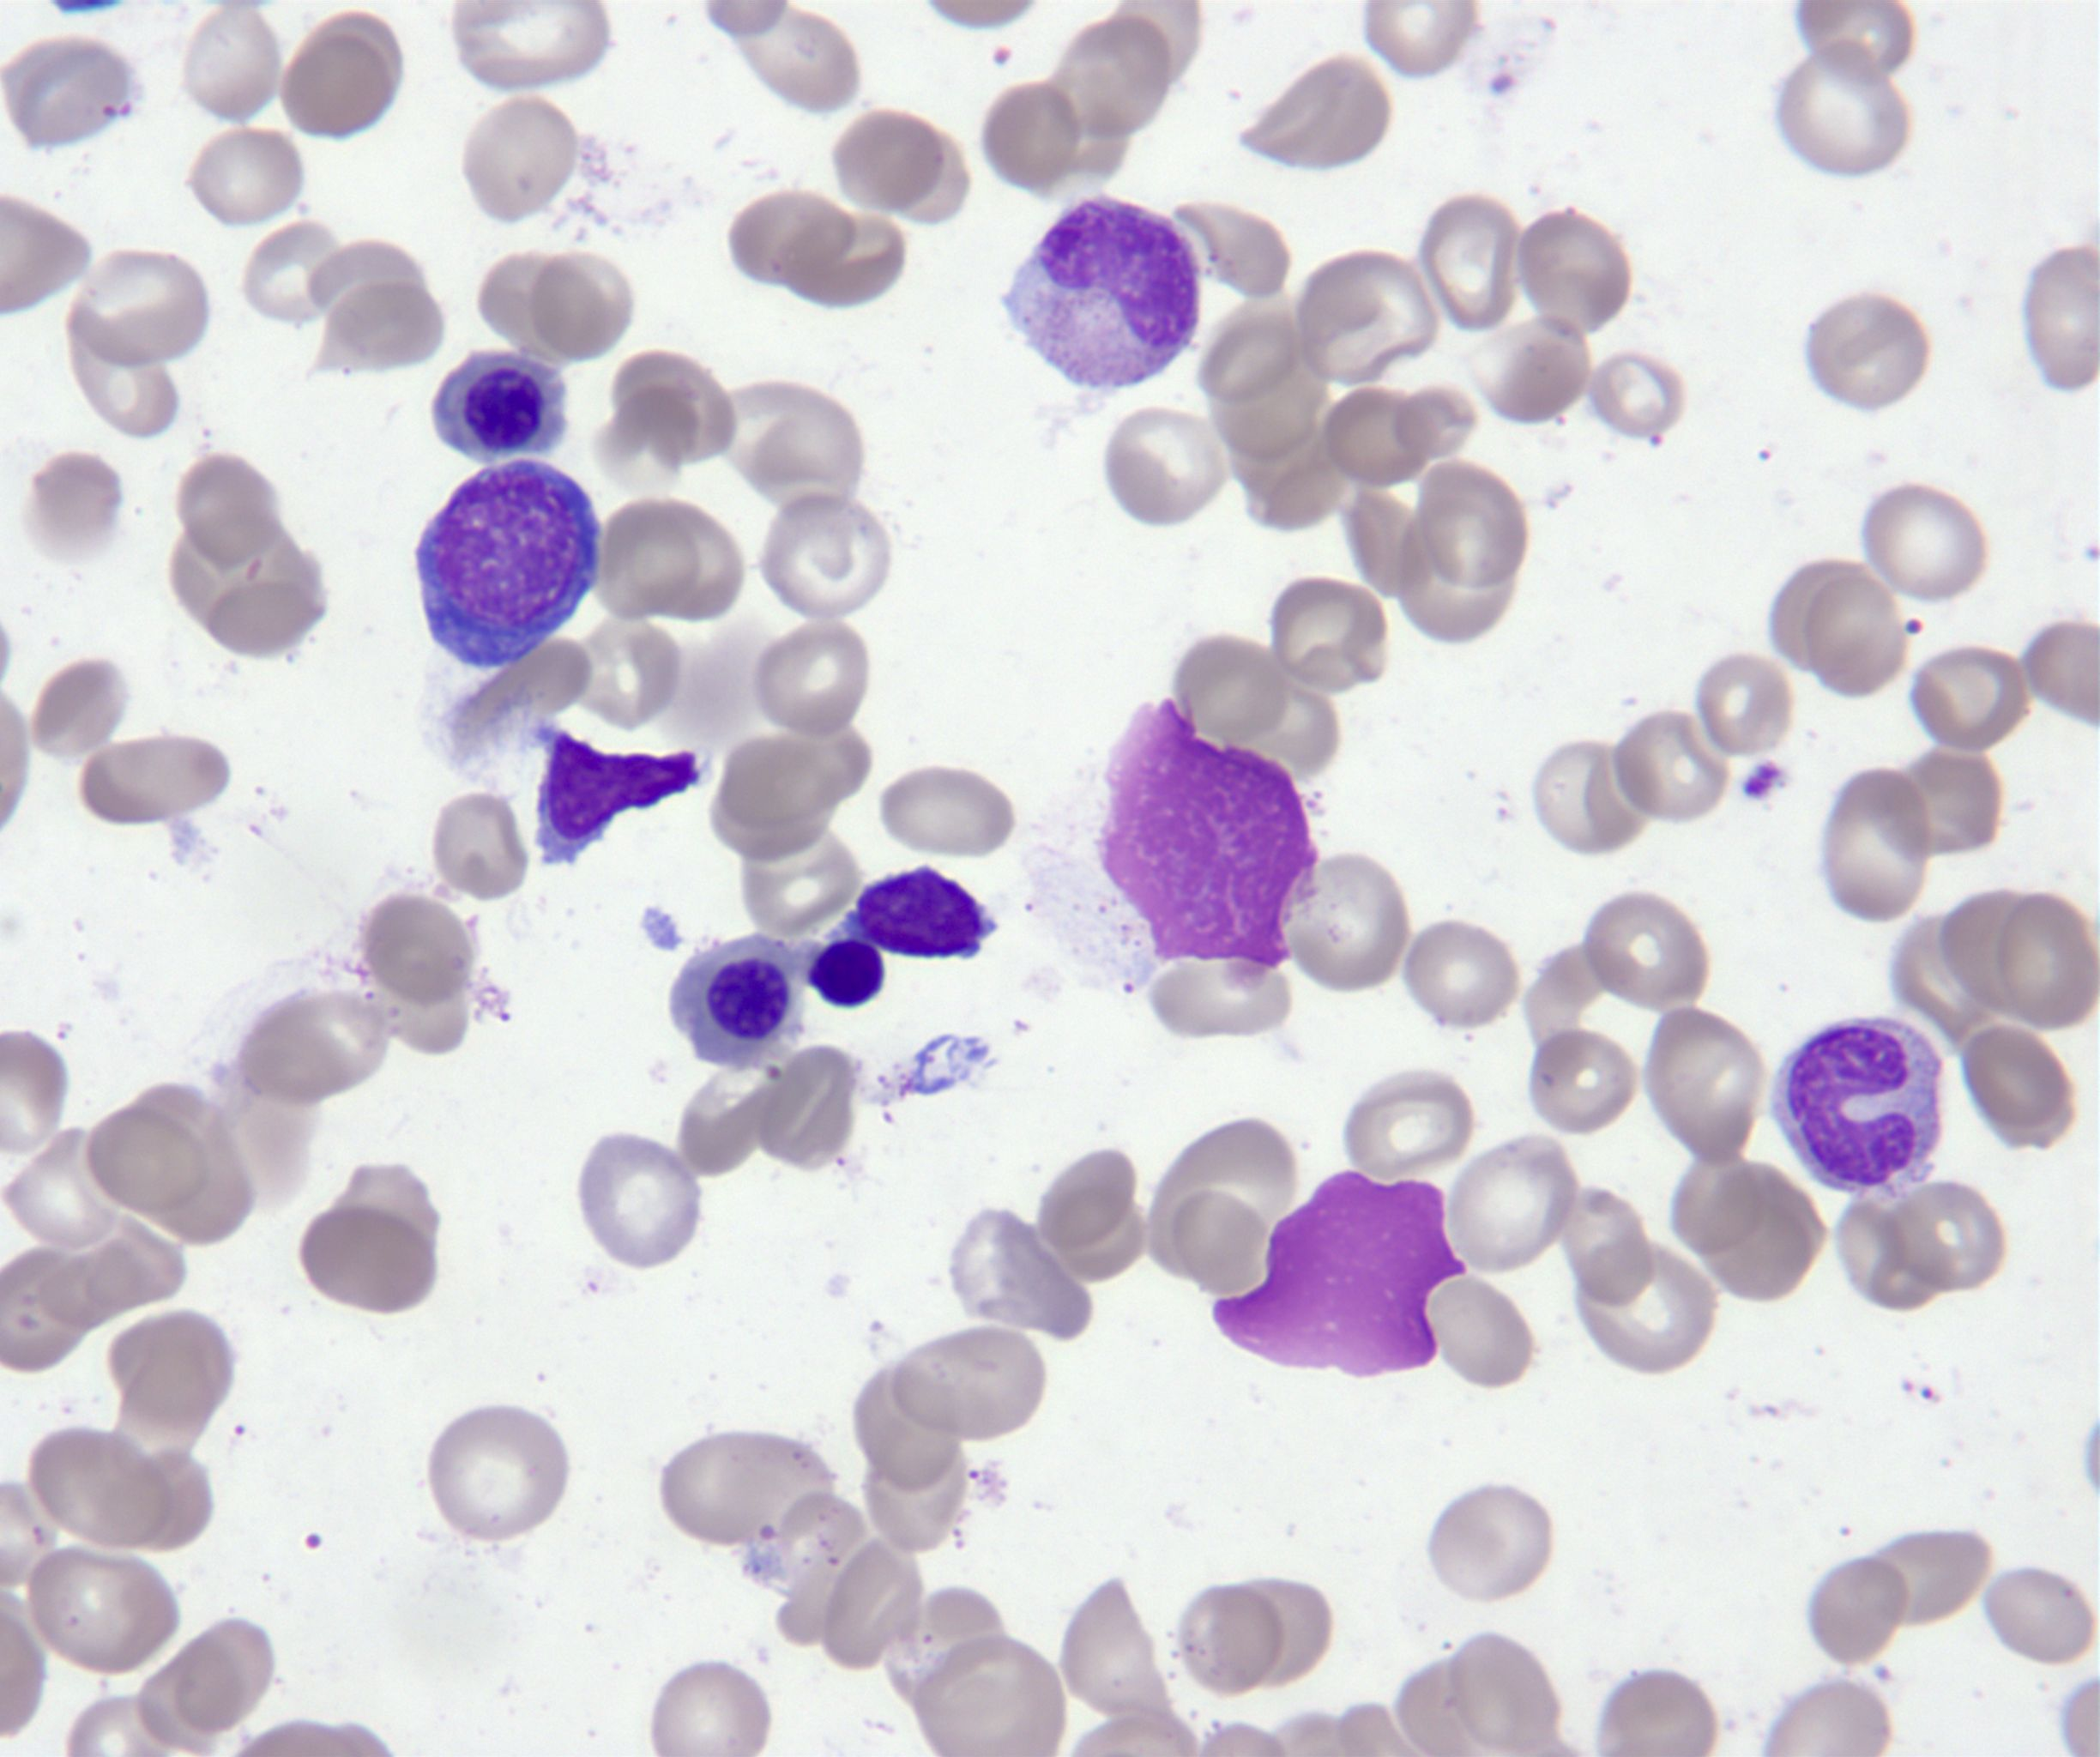23: (419, 464, 602, 668)
24: (672, 935, 825, 1061), (429, 351, 569, 461)
32: (528, 715, 705, 867), (848, 871, 998, 961)
4: (999, 195, 1198, 386)
5: (1774, 1017, 1945, 1200)
x: (1026, 708, 1317, 982), (1209, 1174, 1460, 1375), (808, 937, 884, 1005)
